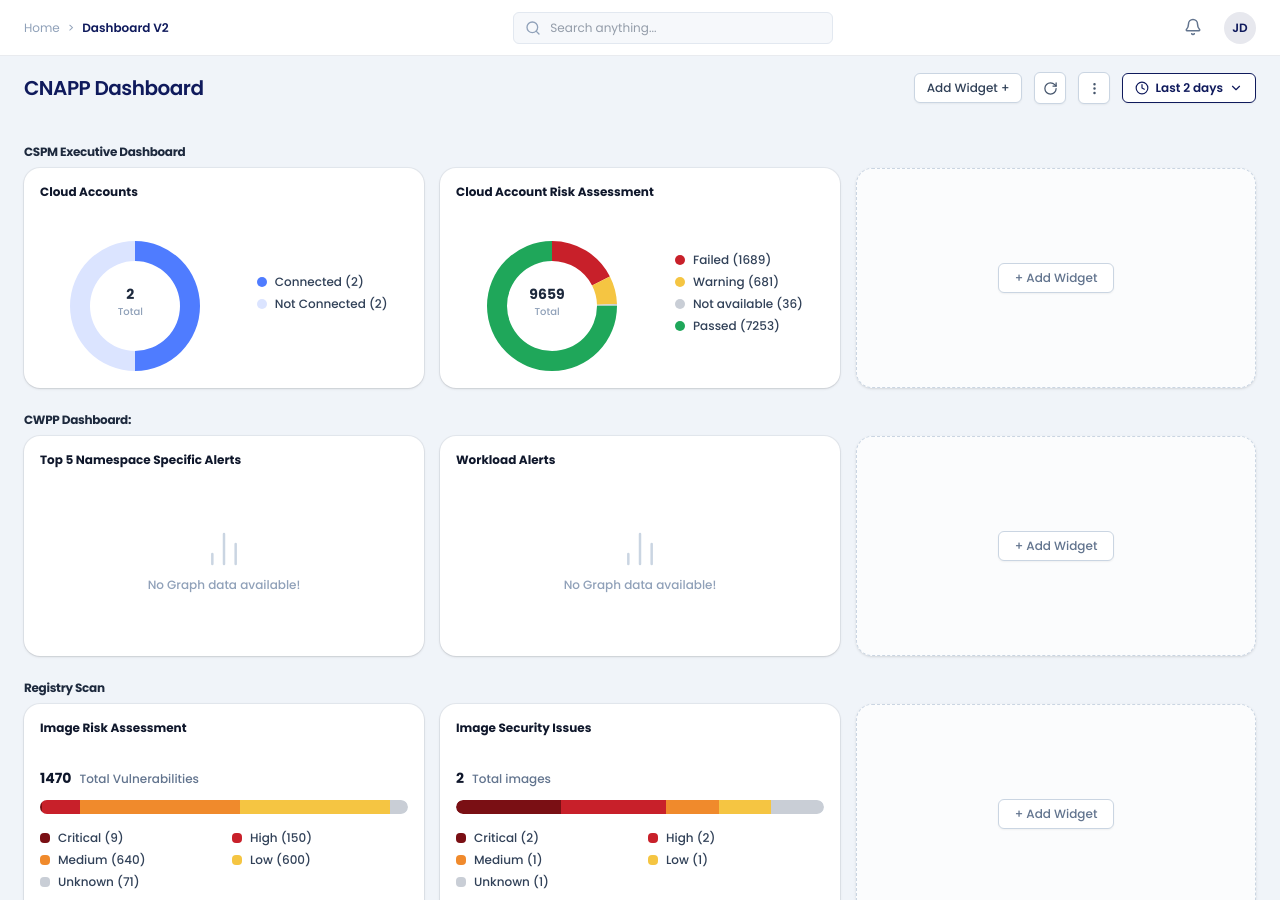
Dashboard Search (Phase 8b) › shows "No widgets match your search." when nothing matches
In the search field named "Search dashboard widgets": (673, 28) x1=513 y1=12 x2=833 y2=44, type "xyz-no-match"
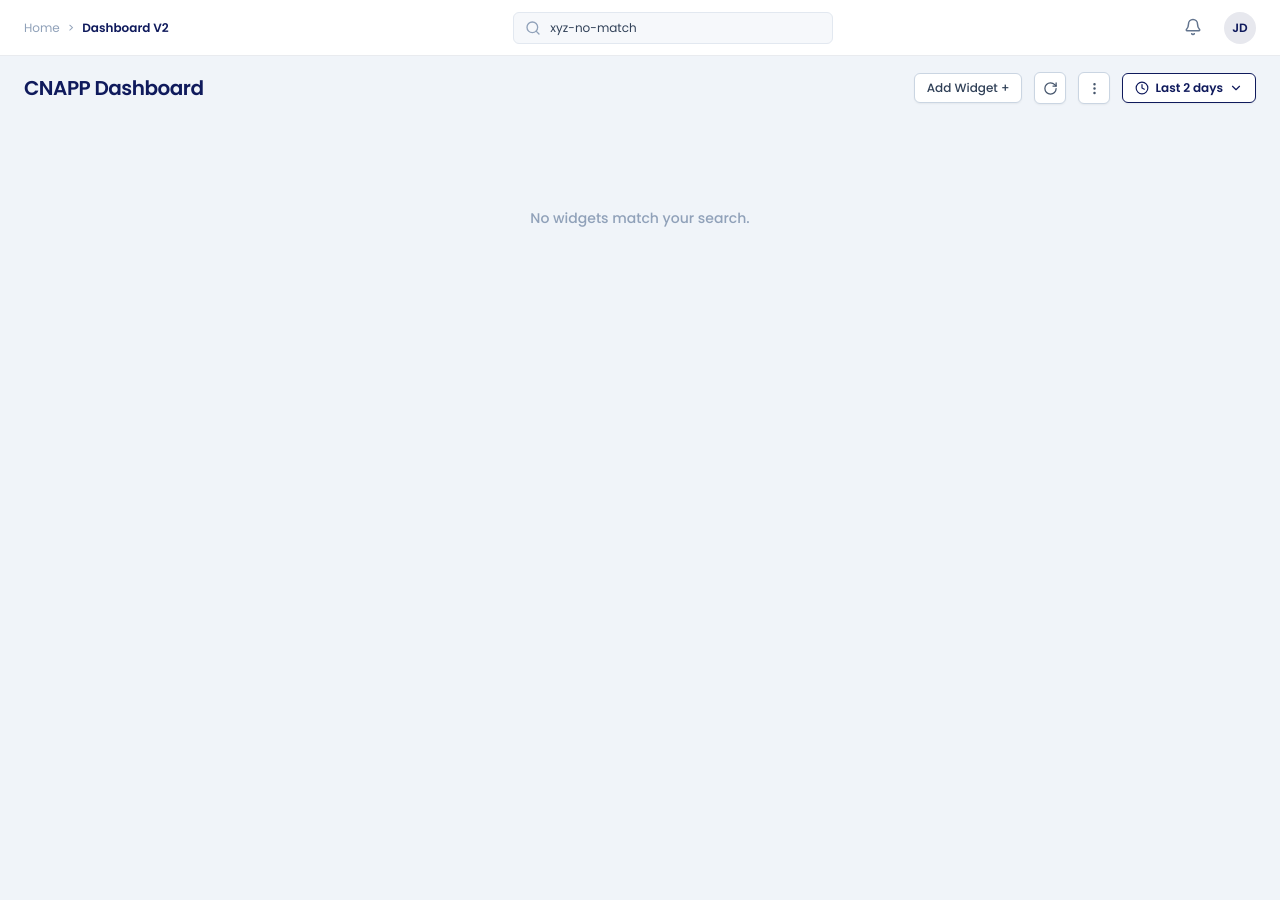
Check: the text "No widgets match your search." is shown, box x1=530 y1=208 x2=750 y2=228
Check: the heading "CSPM Executive Dashboard" is gone
